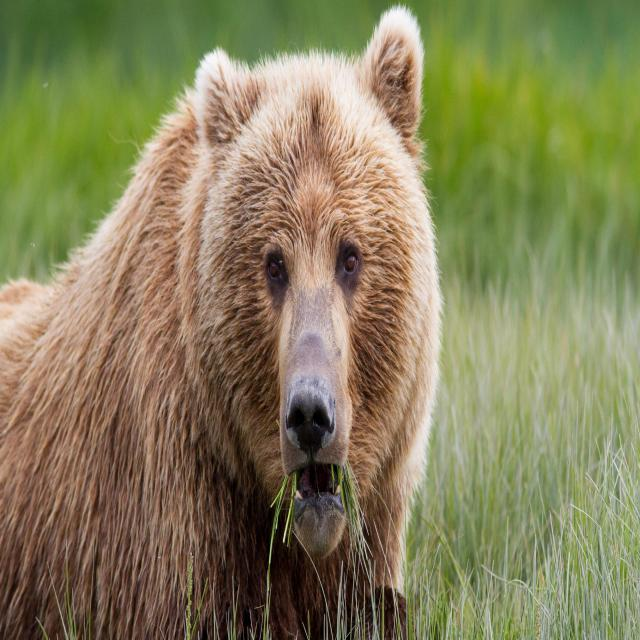Bear: (0, 7, 444, 640)
